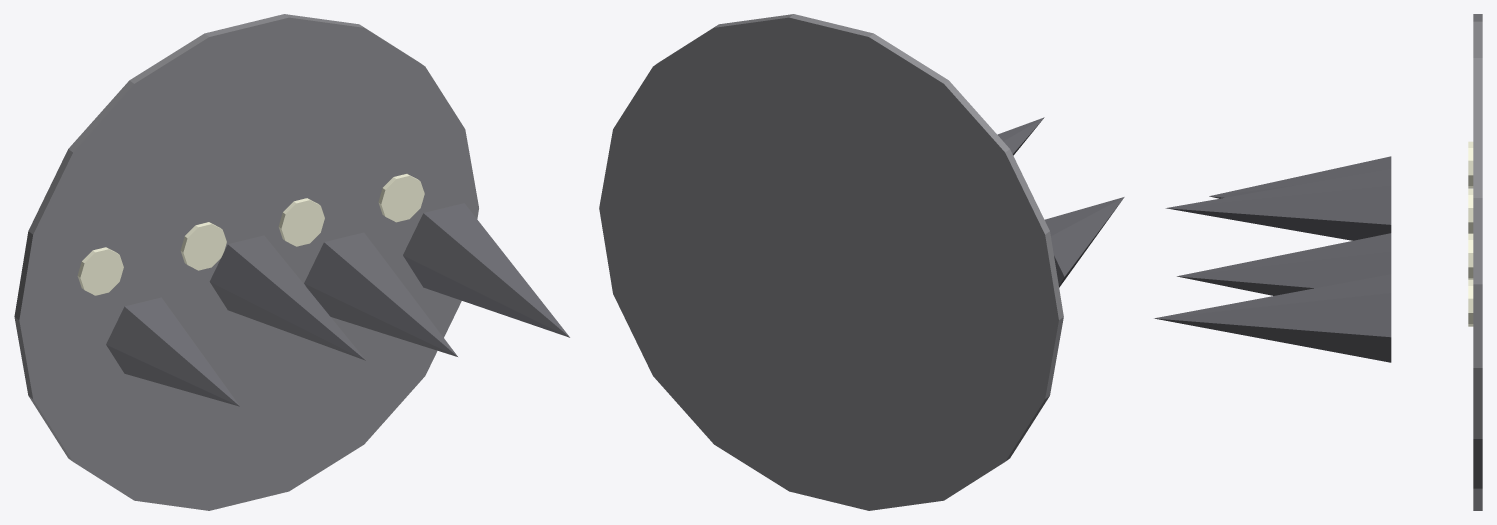
The model's file is 04_event_hazard_cluster.glb.
The picture shows the model from 3 angles, left to right: view 1: azimuth 30°, elevation 25°; view 2: azimuth 150°, elevation 25°; view 3: azimuth 270°, elevation 25°; orthographic projection. The views are drawn at different scales.
Visible parts, largest first — view 1: scatter_base, basalt_shard_3, basalt_shard_2, basalt_shard_1, basalt_shard_0, lava_glow_0, lava_glow_3, lava_glow_2, lava_glow_1; view 2: scatter_base, basalt_shard_0, basalt_shard_1; view 3: basalt_shard_3, basalt_shard_1, basalt_shard_2, scatter_base, basalt_shard_0.
Part boxes in pixels (x1,y1,x2,y2): scatter_base: (14, 14, 478, 510); basalt_shard_3: (403, 203, 569, 337); basalt_shard_2: (304, 232, 457, 356); basalt_shard_1: (209, 235, 365, 360); basalt_shard_0: (106, 297, 239, 406); lava_glow_0: (77, 247, 123, 295); lava_glow_3: (378, 174, 424, 222); lava_glow_2: (278, 198, 324, 246); lava_glow_1: (180, 222, 226, 270); scatter_base: (599, 14, 1063, 510); basalt_shard_0: (1045, 197, 1124, 287); basalt_shard_1: (997, 117, 1044, 155); basalt_shard_3: (1154, 274, 1391, 362); basalt_shard_1: (1165, 169, 1391, 240); basalt_shard_2: (1177, 233, 1391, 295); scatter_base: (1473, 14, 1482, 510); basalt_shard_0: (1209, 156, 1391, 198).
Size of the model in its own units: 1.9 by 1.87 by 1.25.
